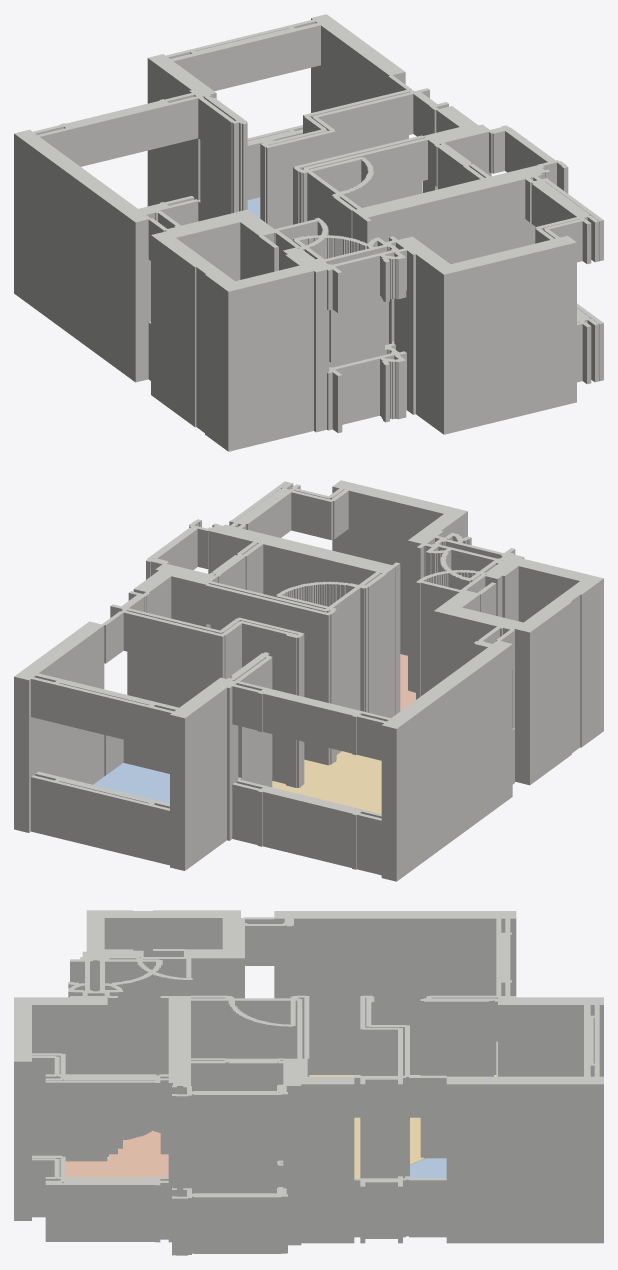
3 renders of one model, top to bottom at view 1: azimuth 30°, elevation 25°; view 2: azimuth 150°, elevation 25°; view 3: azimuth 270°, elevation 25°, orthographic. The views are drawn at different scales.
Visible parts, largest first — view 1: walls; view 2: walls, room:living:1, room:bedroom:0, room:kitchen:5; view 3: walls, room:kitchen:5, room:living:1, room:bedroom:0.
Part boxes in pixels (<box>): walls: <box>14,14,603,451</box>; walls: <box>14,480,603,881</box>; room:living:1: <box>272,751,381,813</box>; room:bedroom:0: <box>93,763,169,803</box>; room:kitchen:5: <box>400,654,415,711</box>; walls: <box>14,910,603,1255</box>; room:kitchen:5: <box>65,1130,168,1177</box>; room:living:1: <box>309,1075,496,1178</box>; room:bedroom:0: <box>410,1158,446,1178</box>.
Bounding box in the file's own units: 7.02 × 2.8 × 9.4.
